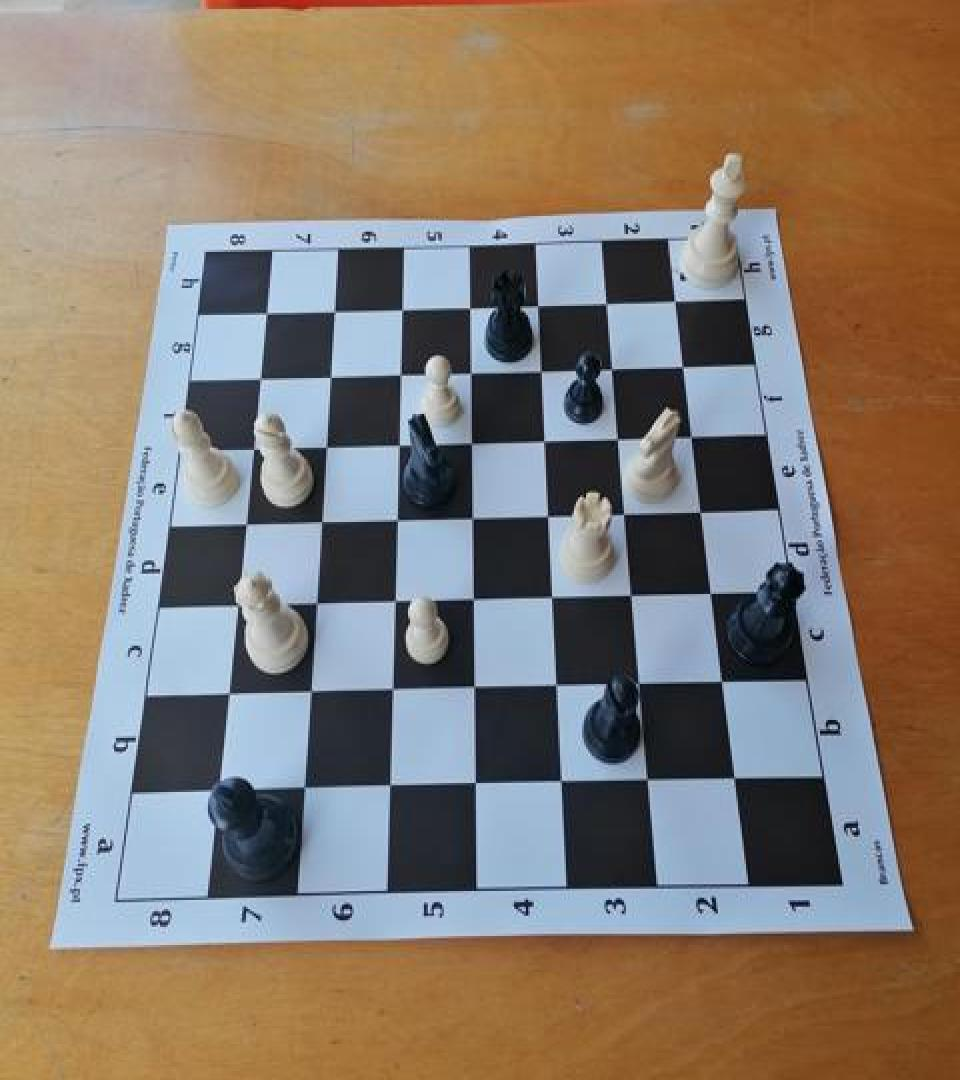xcorner: (203, 775, 233, 809), (289, 774, 319, 808), (376, 772, 406, 806), (463, 770, 493, 804), (549, 768, 579, 802), (636, 766, 666, 800), (723, 765, 753, 799), (212, 678, 242, 712), (295, 676, 325, 710), (378, 674, 408, 708), (461, 672, 491, 706), (544, 670, 574, 704), (627, 669, 657, 703), (711, 667, 741, 701), (221, 588, 251, 622), (301, 586, 331, 620), (380, 585, 410, 619), (460, 582, 490, 616), (539, 582, 569, 616), (619, 579, 649, 613), (699, 578, 729, 612), (229, 506, 259, 540), (305, 504, 335, 538), (382, 503, 412, 537), (535, 498, 565, 532), (611, 497, 641, 531), (688, 495, 718, 529), (237, 430, 267, 464), (310, 428, 340, 462), (384, 426, 414, 460), (457, 424, 487, 458), (531, 423, 561, 457), (678, 420, 708, 454), (244, 359, 274, 393), (314, 356, 344, 390), (456, 353, 486, 387), (527, 352, 557, 386), (598, 350, 628, 384), (669, 348, 699, 382), (318, 291, 348, 325), (387, 289, 417, 323), (455, 288, 485, 322), (523, 287, 553, 321), (592, 284, 622, 318), (458, 501, 488, 534), (605, 421, 635, 454), (385, 356, 415, 389), (250, 293, 280, 326), (661, 284, 691, 317)
